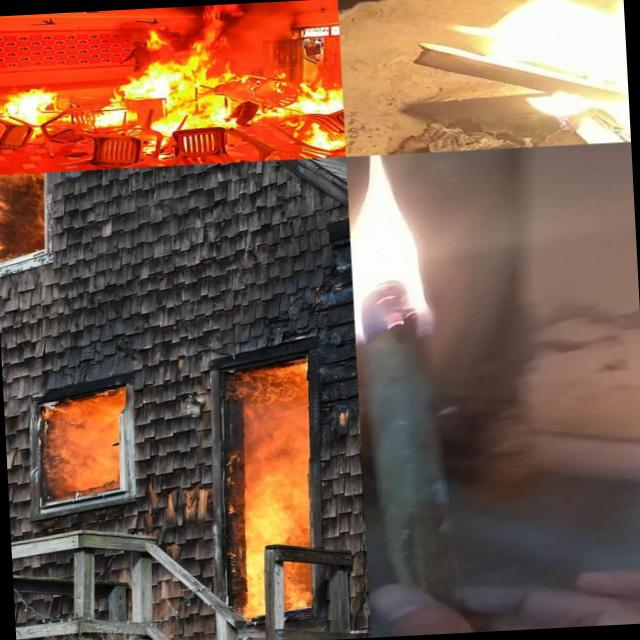fire: (438, 0, 631, 151), (346, 150, 476, 354), (233, 363, 321, 618), (50, 396, 124, 499), (111, 51, 235, 108), (145, 100, 282, 140), (0, 173, 47, 259), (2, 81, 62, 126), (288, 77, 344, 118), (286, 118, 346, 156), (84, 90, 128, 131), (136, 27, 169, 52)
smoke: (100, 1, 302, 30)
